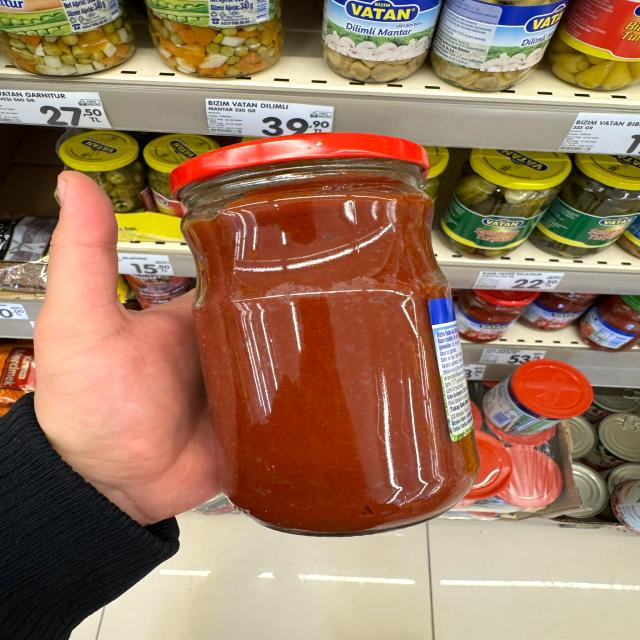tomato paste: (179, 137, 481, 525)
